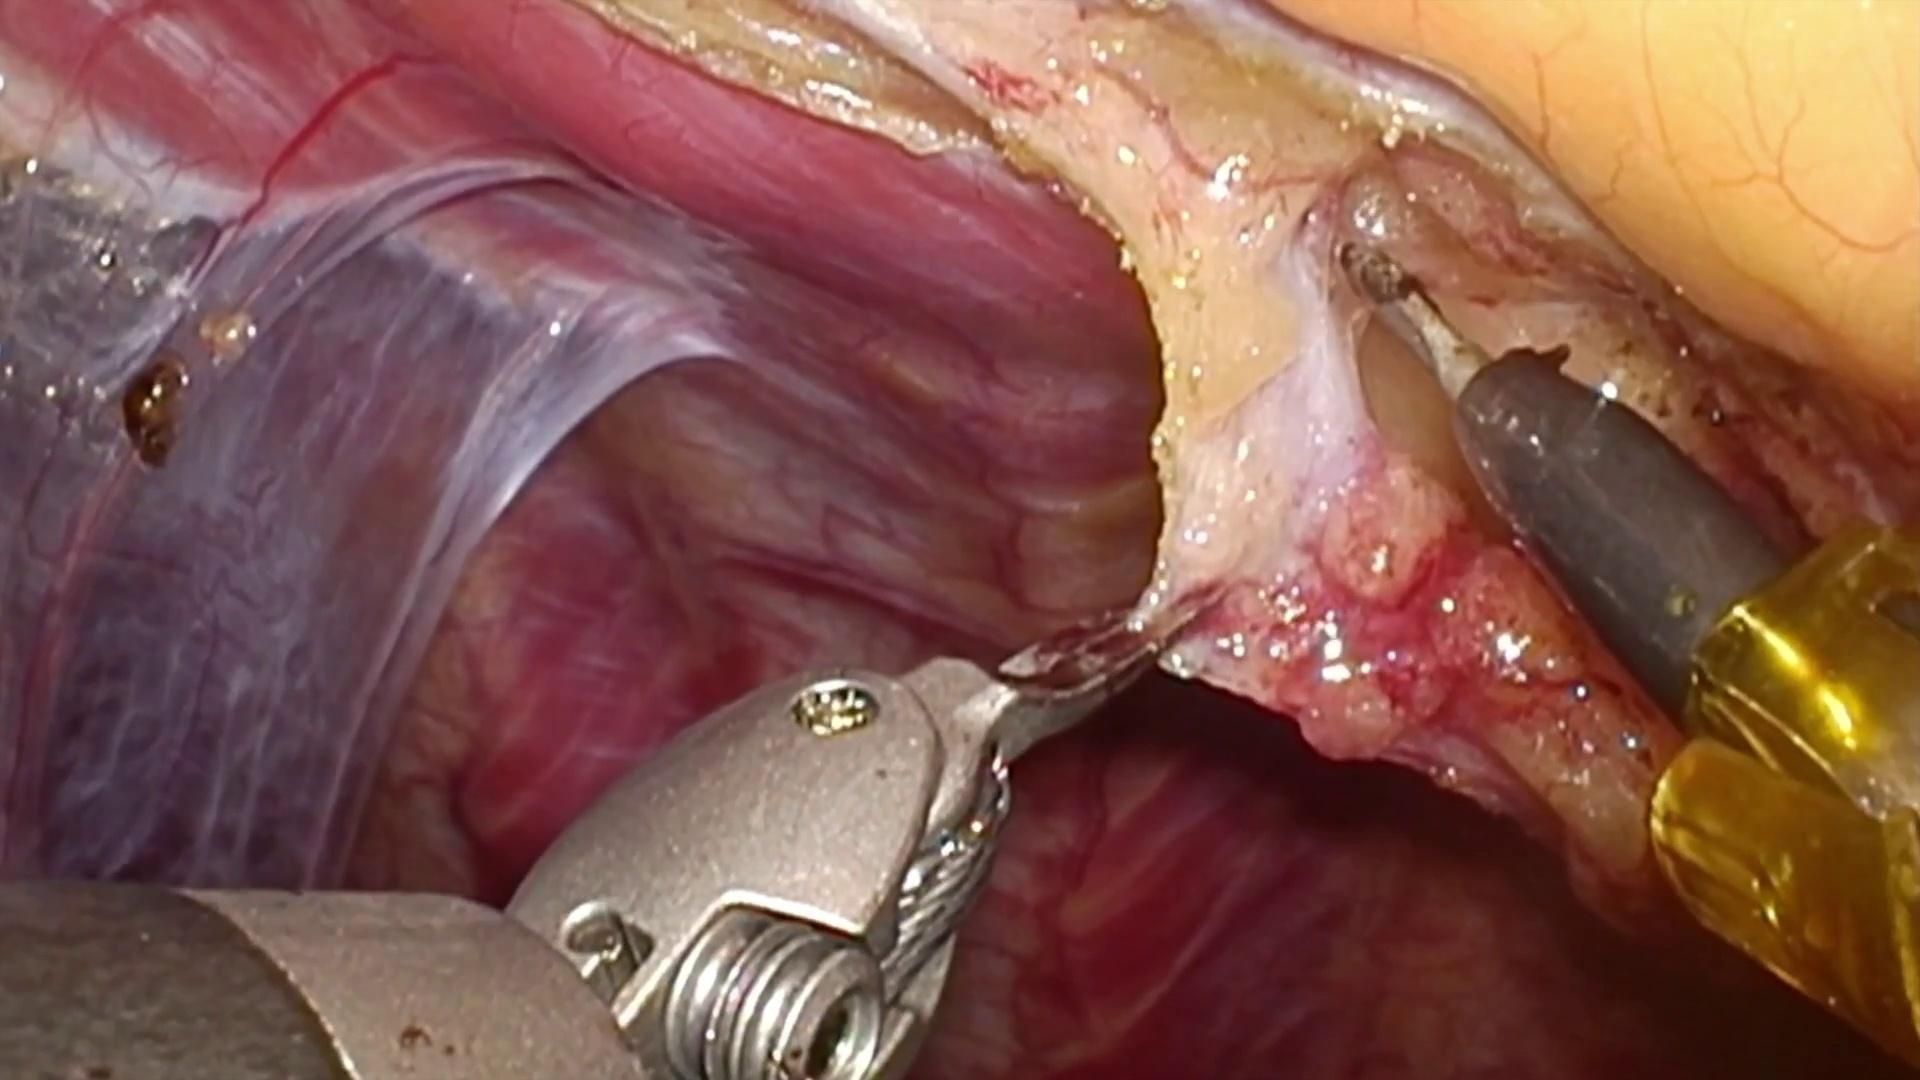Cautery_Spatula: (1340, 240, 1797, 712)
Debakey: (906, 545, 1222, 874)
